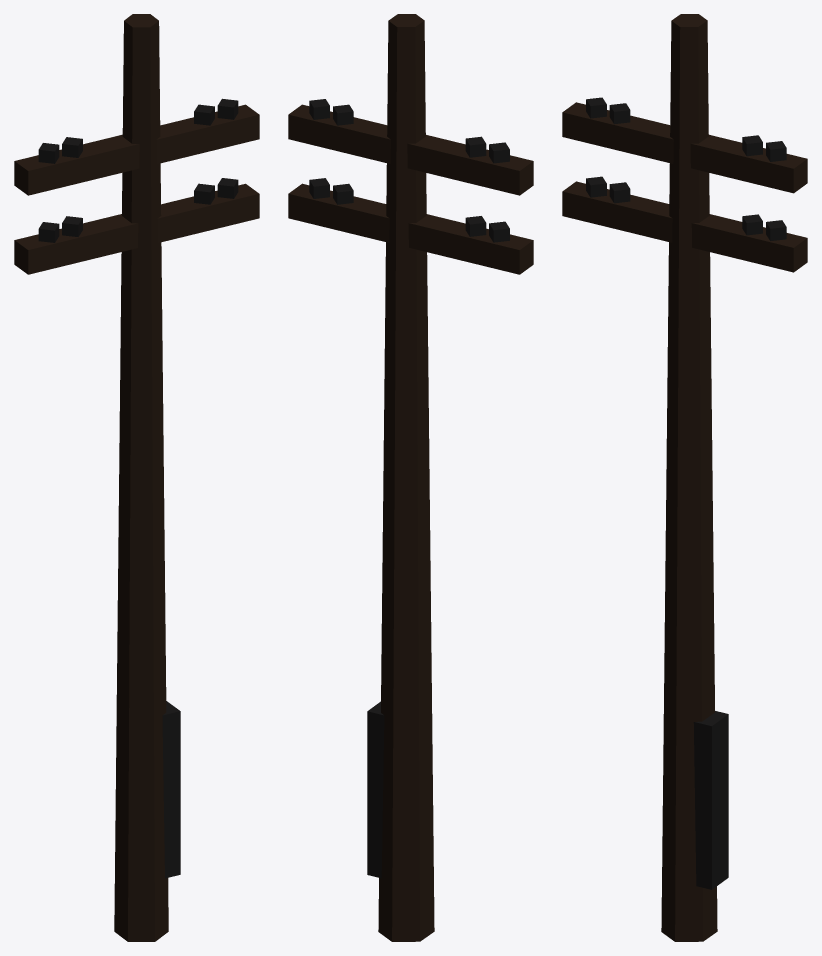
The model's file is power_pole.FBX.
3 views of the same model, side by side, from view 1: azimuth 30°, elevation 25°; view 2: azimuth 150°, elevation 25°; view 3: azimuth 330°, elevation 25° (orthographic).
Visible parts, largest first — view 1: power_pole; view 2: power_pole; view 3: power_pole.
Boxes of the visible parts, box(x1,y1,x2,y2) form: power_pole: box(14, 14, 259, 941); power_pole: box(288, 14, 533, 941); power_pole: box(562, 14, 807, 941).
Size of the model in its own units: 31.49 by 119 by 6.61.
